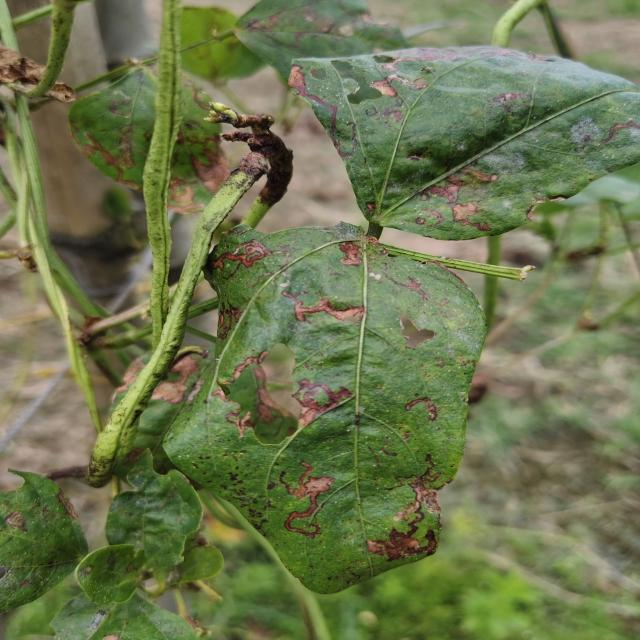leaf-moderate: (220, 223, 485, 550)
sitaw-aphid-low: (289, 46, 640, 240)
sitaw-moderate: (86, 128, 184, 487)
